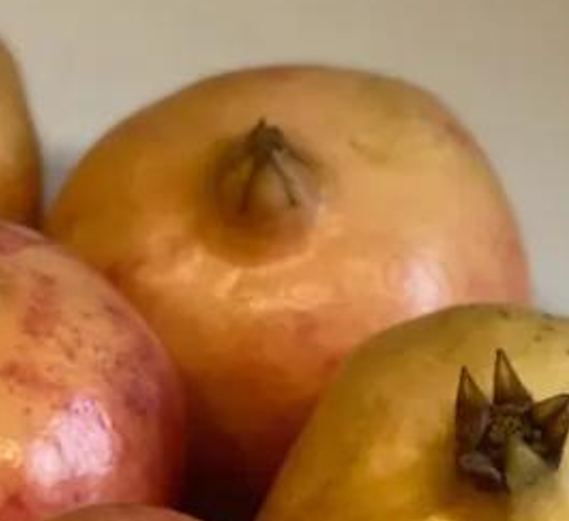pomegranate_B: (40, 65, 540, 521)
